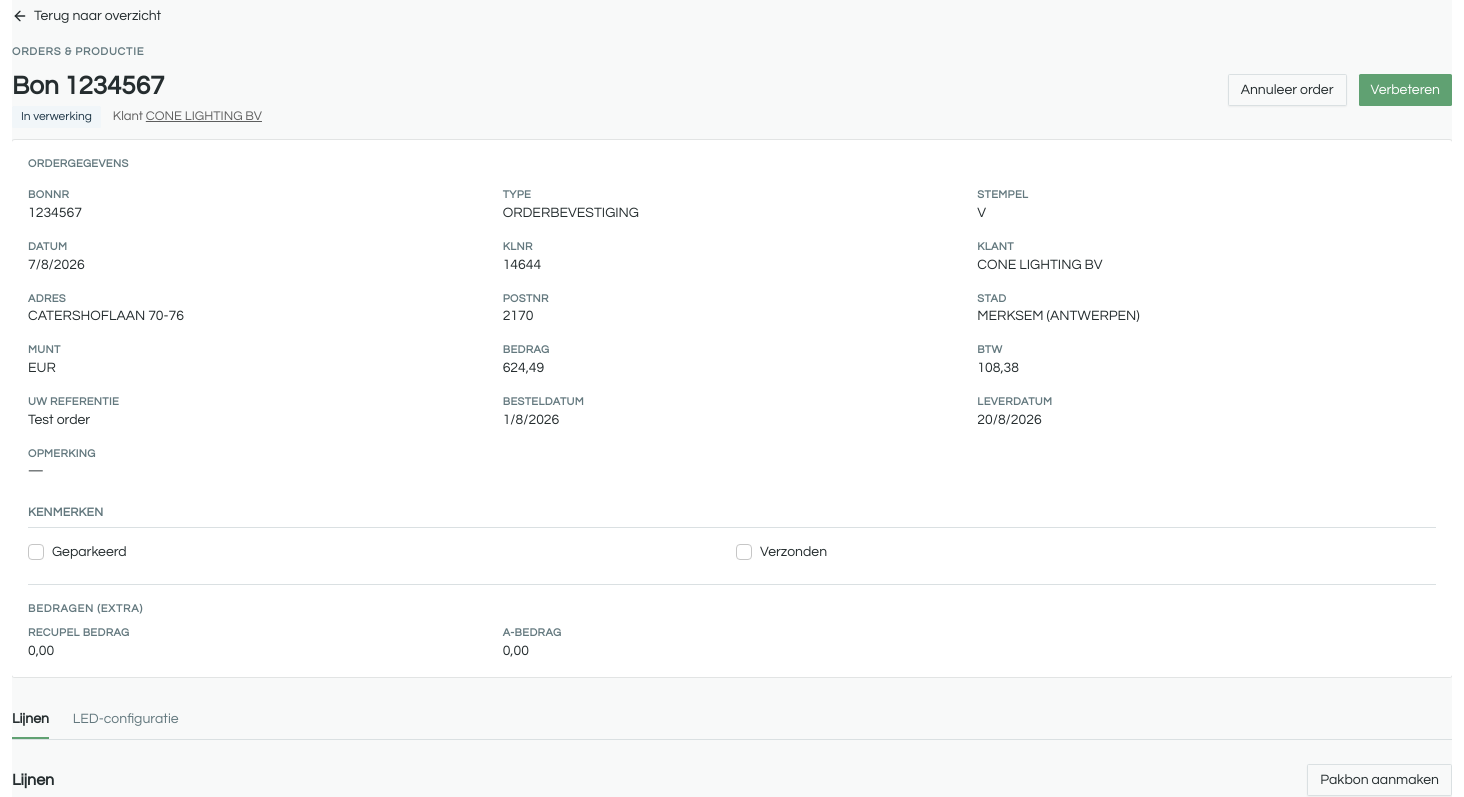
Test: BonDetailPage › annuleer order › keeps the button in the DOM but disabled in edit mode, with edit-mode explanation
The image size is (1464, 797).
Click the button "Verbeteren". click: (1405, 90)
box: [1358,74,1452,106]
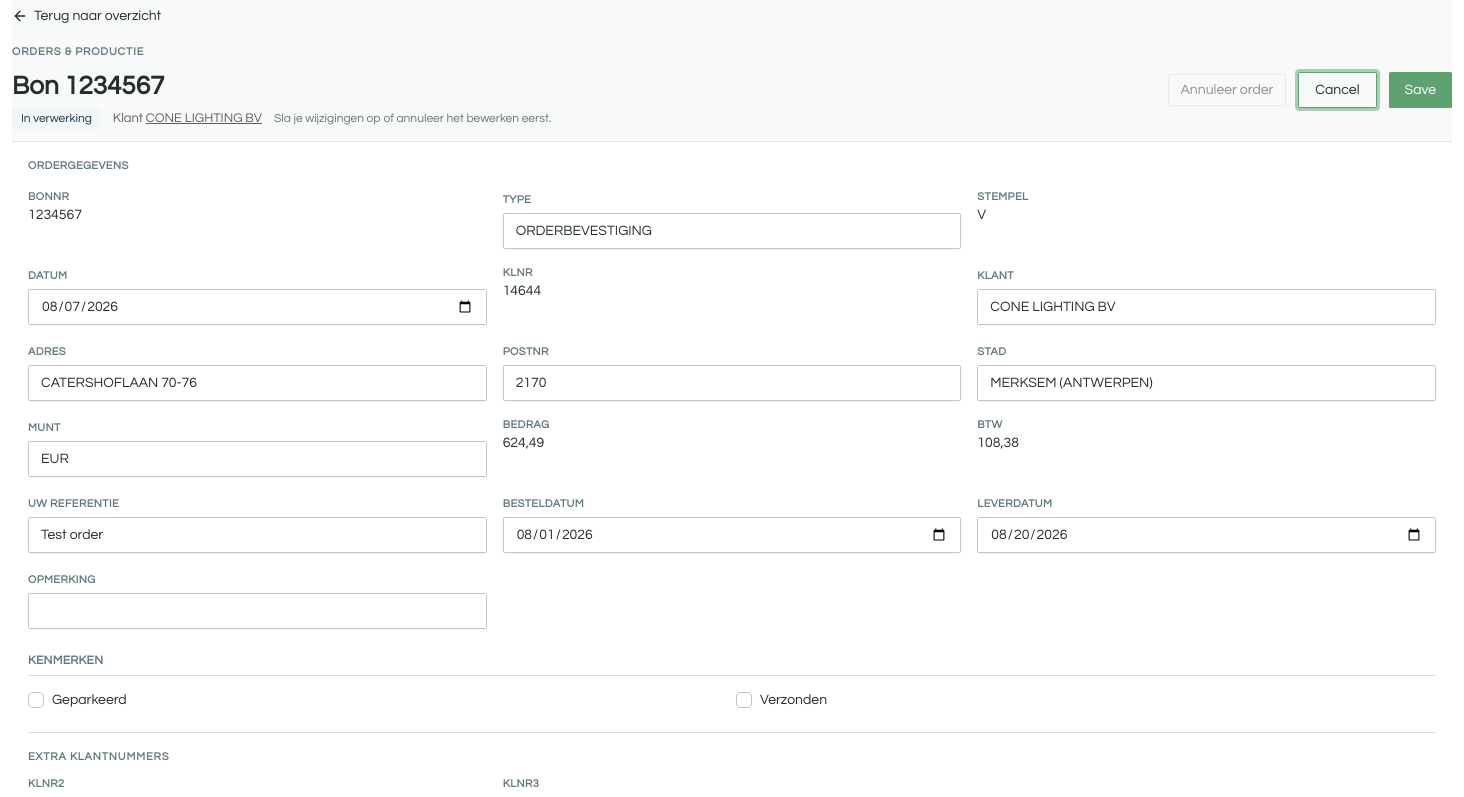
Expected: the button "Annuleer order" is disabled, [1168,74,1286,106]
Expected: the text "Sla je wijzigingen op of annuleer het bewerken eerst." is shown, [274,110,551,126]
